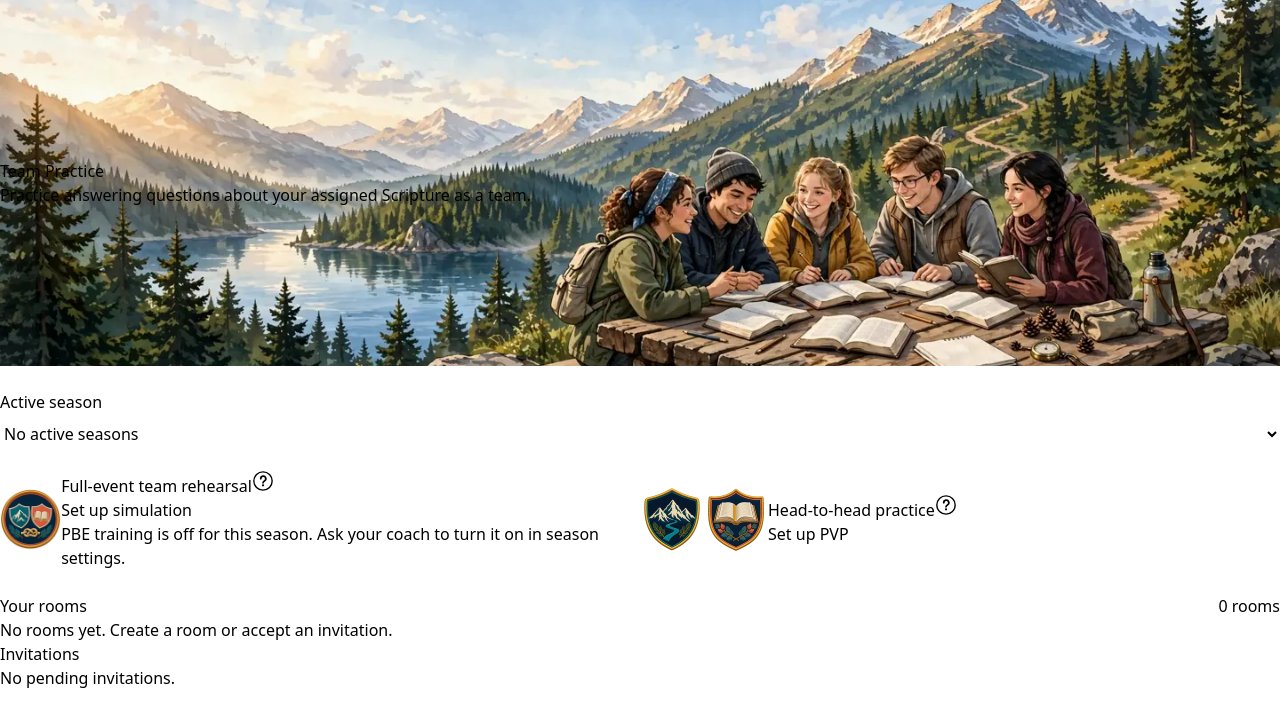
Test: Team Practice hub › prevents room creation without an active season
Click the button "Set up PVP" at (808, 534), box x1=768 y1=522 x2=849 y2=546
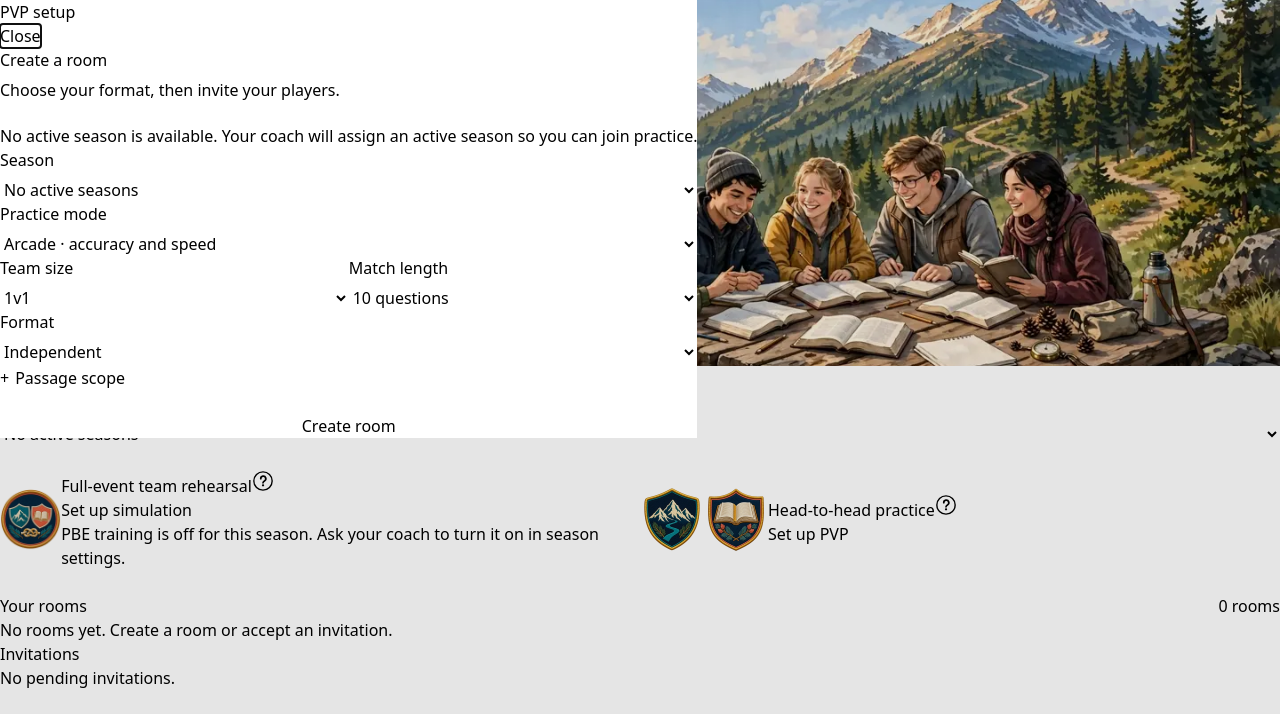
Expected: the button "Create room" is disabled, x1=0 y1=414 x2=698 y2=438
Expected: the dropdown labelled "Season" is disabled, x1=0 y1=178 x2=698 y2=202
